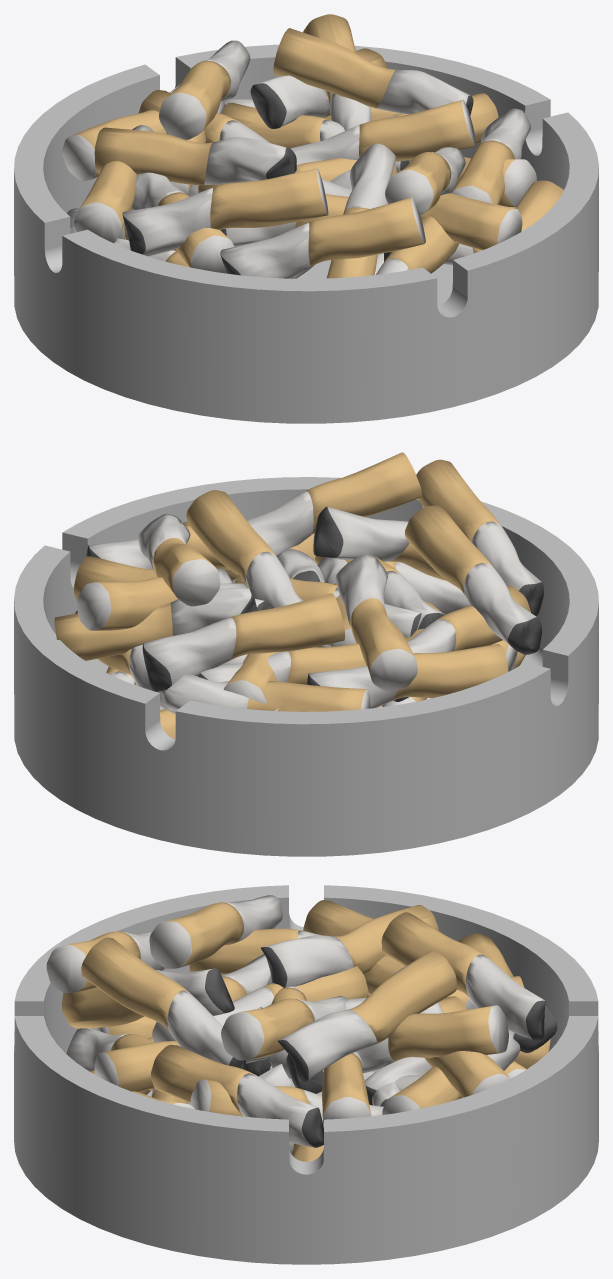
The model's file is tabacos.fbx.
3 views of the same model, one above another, from view 1: azimuth 30°, elevation 25°; view 2: azimuth 150°, elevation 25°; view 3: azimuth 270°, elevation 25° (orthographic).
Parts seen in each view (by area): view 1: Body, suigara; view 2: Body, suigara; view 3: Body, suigara.
Boxes of the visible parts, <box> form: Body: <box>14,44,598,423</box>; suigara: <box>62,14,563,278</box>; Body: <box>14,477,598,856</box>; suigara: <box>54,452,543,738</box>; Body: <box>14,885,598,1264</box>; suigara: <box>46,895,557,1161</box>.
Size of the model in its own units: 10 by 3.97 by 10.
